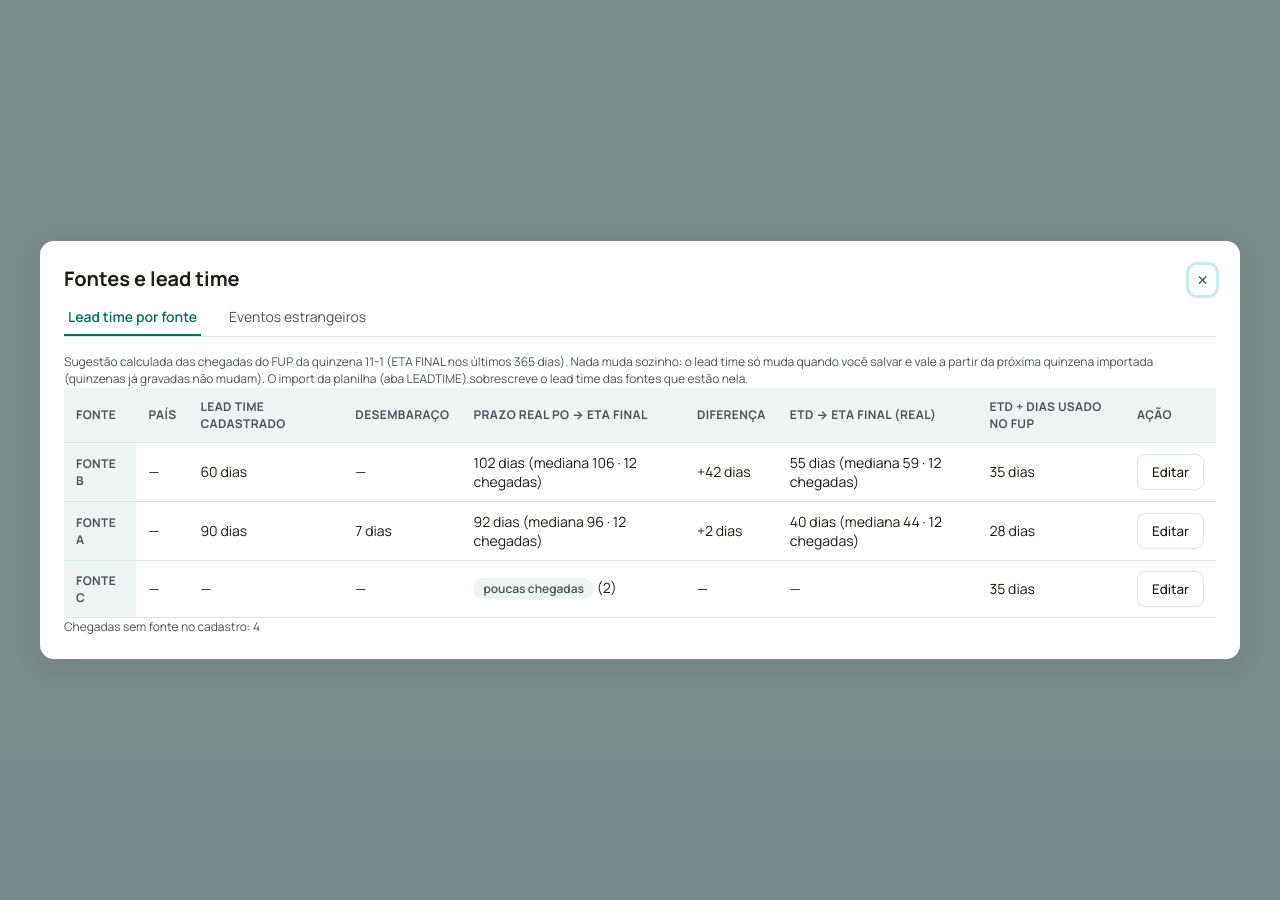
Test case: ForecastFontesModal - edicao do lead time › comprador edita: campo pre-preenchido, PATCH, invalida as fontes, confirma e devolve o foco
Check: the table is shown, box [64, 388, 1216, 618]
Click the button with aria-label "Editar lead time de FONTE B" at (1170, 472), box [1137, 454, 1204, 490]
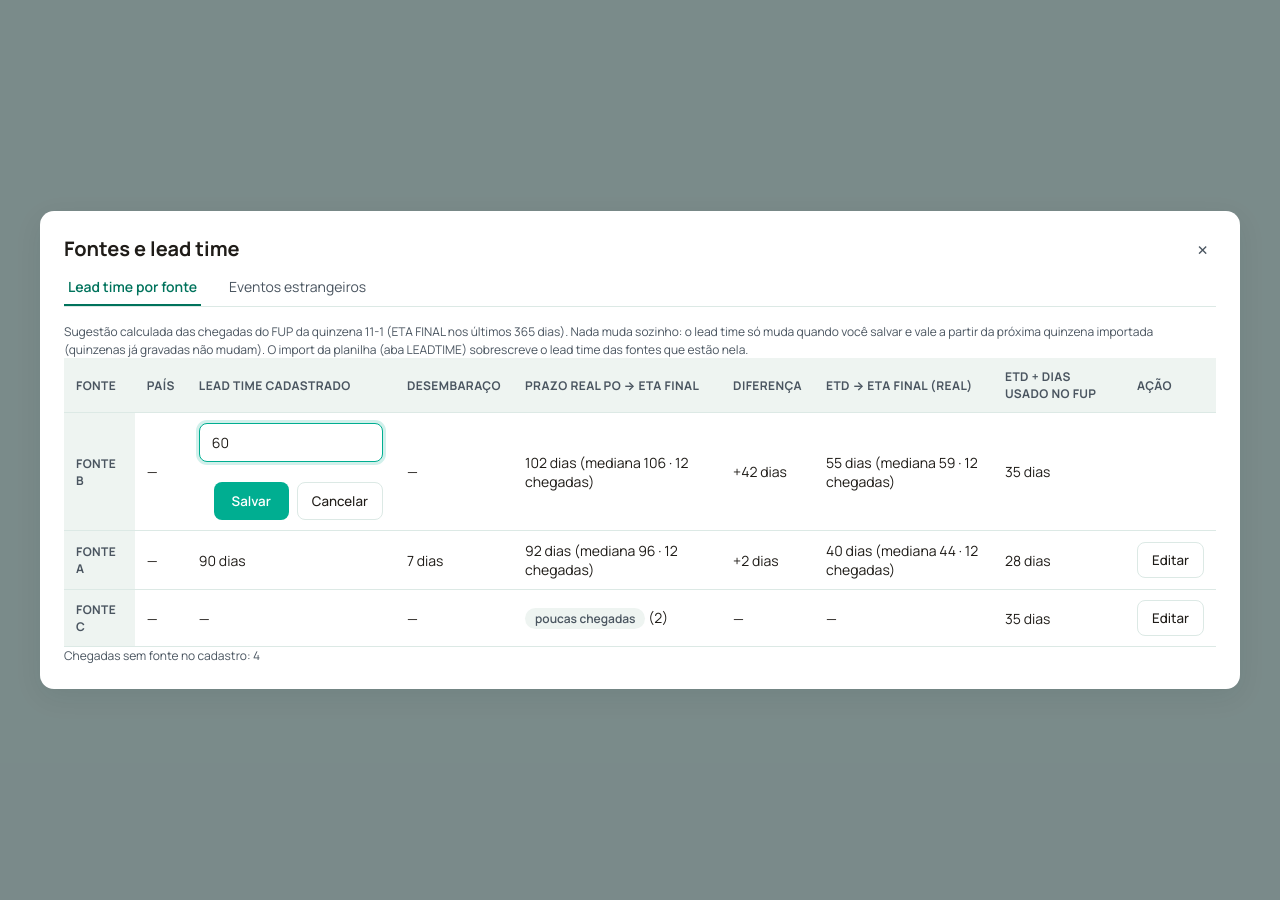
Check: the field named "Lead time de FONTE B (dias)" holds "60"
Replace the text in the field named "Lead time de FONTE B (dias)" with "100" at (291, 443), box [199, 423, 383, 462]
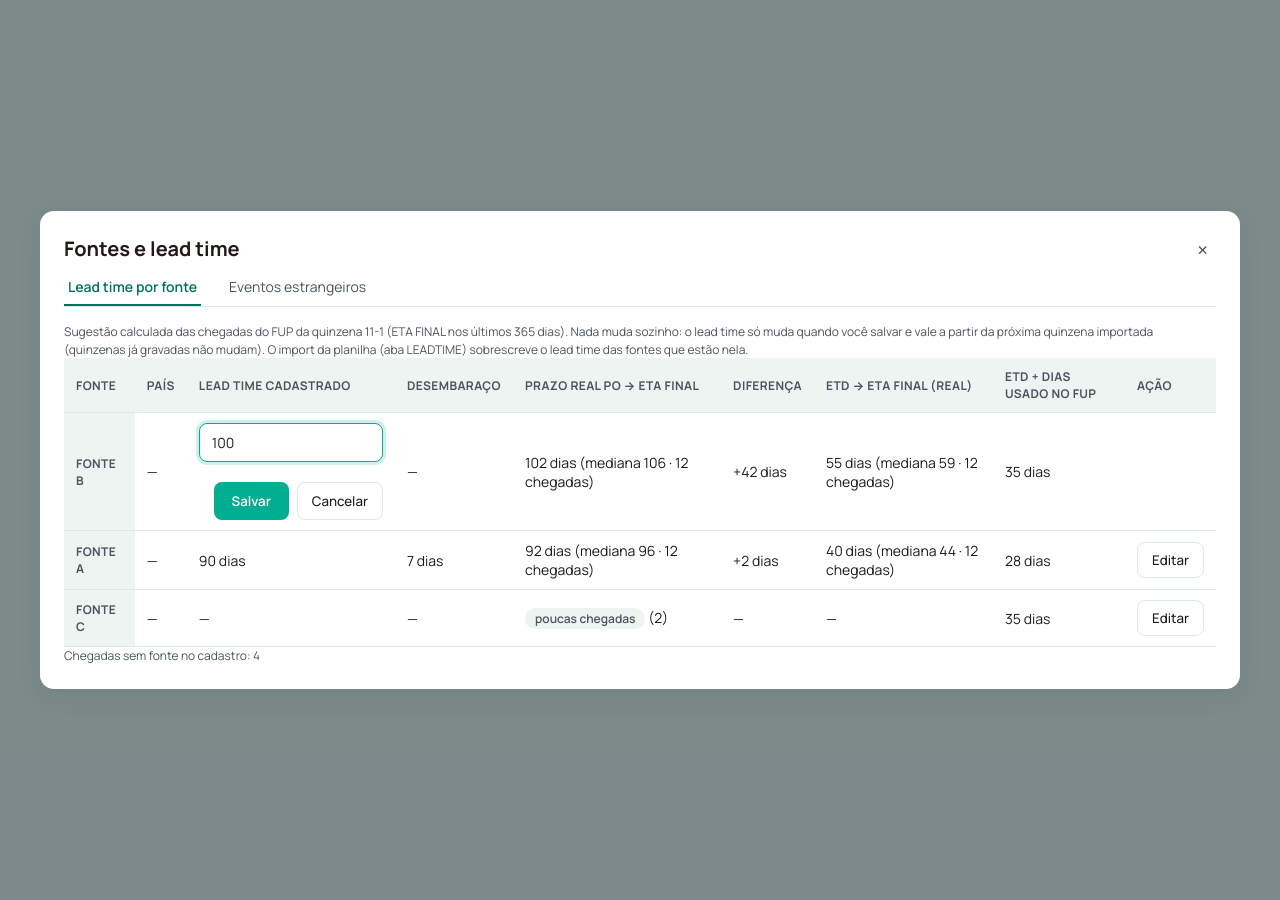
Click the button "Salvar" at (251, 501), box [214, 482, 289, 520]
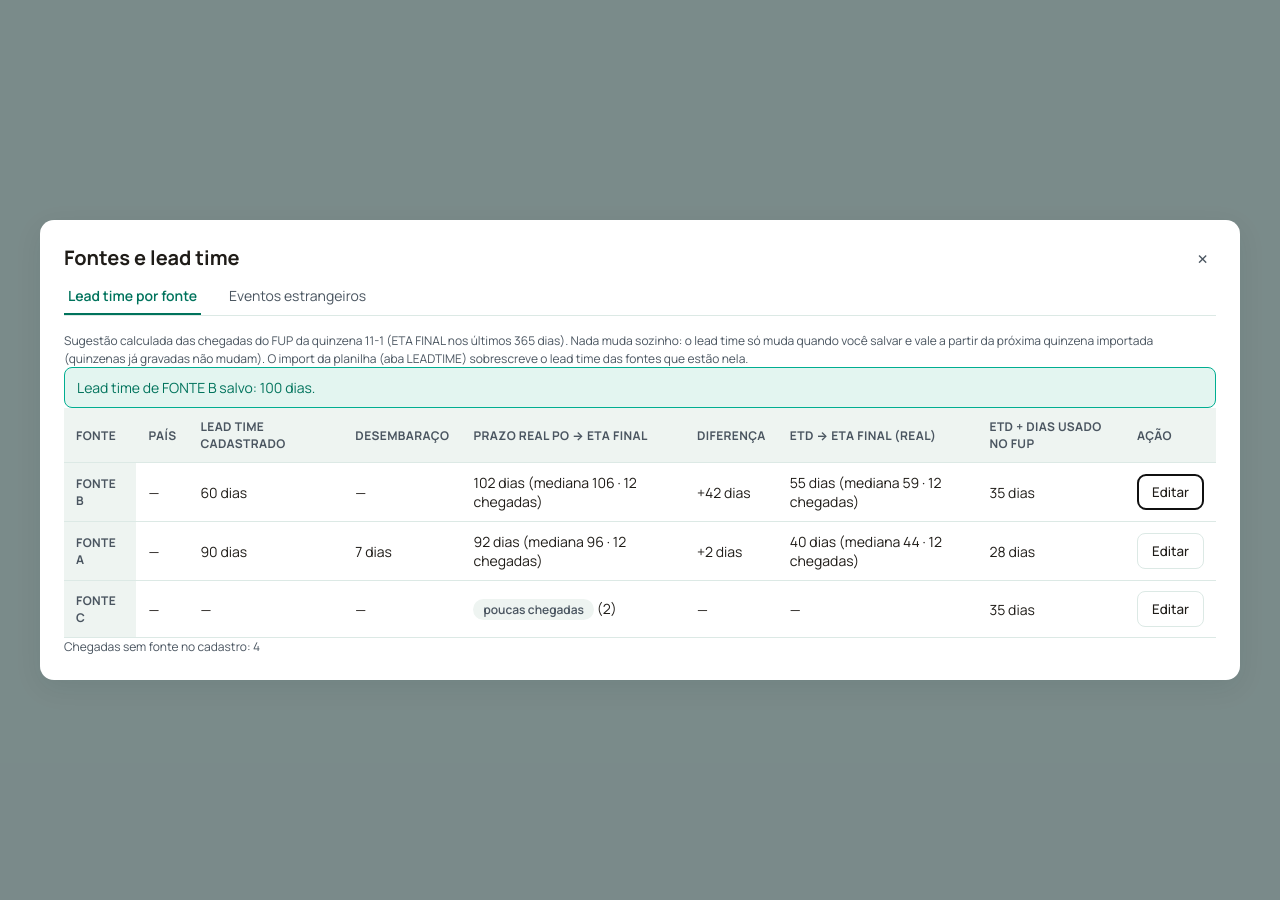
Check: the text "Lead time de FONTE B salvo: 100 dias." is shown, box [64, 367, 1216, 408]
